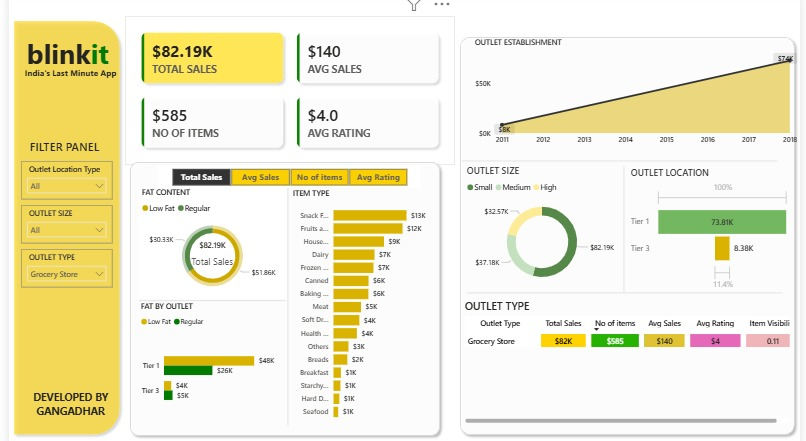

What the dashboard file says about the page in this screenshot:
{"tool":"powerbi","page":{"name":"Page 1","canvas":[1400,800],"ordinal":0},"visuals":[{"type":"shape","box":[0,37.3,205,750],"z":0},{"type":"textbox","box":[26.5,65.5,203.5,81.4],"z":1000},{"type":"textbox","box":[12.1,122.7,193.1,48.3],"z":2000},{"type":"cardVisual","fields":{"Data":["BlinkIT Grocery Data.Total Sales","BlinkIT Grocery Data.Avg Sales","BlinkIT Grocery Data.No of items","BlinkIT Grocery Data.Avg Rating"]},"box":[205.3,37.2,584.1,263.7],"z":3000},{"type":"shape","box":[206,286,566,502],"z":4000},{"type":"donutChart","title":"FAT CONTENT","fields":{"Y":["BlinkIT Grocery Data.Total Sales"],"Category":["BlinkIT Grocery Data.Item Fat Content"]},"box":[230,340,260,198],"z":5000},{"type":"slicer","fields":{"Values":["Metrics.Metrics"]},"box":[263.7,300.9,465.5,40.7],"z":6000},{"type":"card","fields":{"Values":["BlinkIT Grocery Data.Total Sales"]},"box":[316,428,86,56],"z":7000},{"type":"clusteredBarChart","title":"FAT BY OUTLET","fields":{"Y":["BlinkIT Grocery Data.Total Sales"],"Category":["BlinkIT Grocery Data.Outlet Location Type"],"Series":["BlinkIT Grocery Data.Item Fat Content"]},"box":[228.3,541.7,260,221.7],"z":8000},{"type":"shape","box":[230,528.3,260,23.3],"z":9000},{"type":"shape","box":[490,341.7,6.7,420],"z":10000},{"type":"barChart","title":"ITEM TYPE","fields":{"Y":["BlinkIT Grocery Data.Total Sales"],"Category":["BlinkIT Grocery Data.Item Type"]},"box":[496.7,341.7,255,420],"z":11000},{"type":"shape","box":[790,66,610,722],"z":12000},{"type":"lineChart","title":"OUTLET ESTABLISHMENT","fields":{"Y":["BlinkIT Grocery Data.Total Sales"],"Category":["BlinkIT Grocery Data.Outlet Establishment Year"]},"box":[806,86,580,200],"z":13000},{"type":"shape","box":[802,286,558,14],"z":14000},{"type":"donutChart","title":"OUTLET SIZE","fields":{"Y":["BlinkIT Grocery Data.Total Sales"],"Category":["BlinkIT Grocery Data.Outlet Size"]},"box":[806,300,276,226],"z":15000},{"type":"shape","box":[1082,302,14,224],"z":16000},{"type":"funnel","title":"OUTLET LOCATION","fields":{"Y":["Sum(BlinkIT Grocery Data.Sales)"],"Category":["BlinkIT Grocery Data.Outlet Location Type"]},"box":[1096,302,290,224],"z":17000},{"type":"shape","box":[810,484,558,88],"z":18000},{"type":"pivotTable","title":"OUTLET TYPE","fields":{"Values":["BlinkIT Grocery Data.Total Sales","BlinkIT Grocery Data.No of items","BlinkIT Grocery Data.Avg Sales","BlinkIT Grocery Data.Avg Rating","Avg(BlinkIT Grocery Data.Item Visibility)"],"Rows":["BlinkIT Grocery Data.Outlet Type"]},"box":[802.5,537.5,585,225],"z":19000},{"type":"slicer","fields":{"Values":["BlinkIT Grocery Data.Outlet Location Type"]},"box":[21.1,293.3,162.2,67.8],"z":20000},{"type":"slicer","fields":{"Values":["BlinkIT Grocery Data.Outlet Size"]},"box":[21.1,371.1,162.2,67.8],"z":21000},{"type":"slicer","fields":{"Values":["BlinkIT Grocery Data.Outlet Type"]},"box":[21.1,450,162.2,67.8],"z":22000},{"type":"textbox","title":"FILTER PANEL","box":[26.7,255,143.3,38.3],"z":22001},{"type":"image","box":[58.3,536.7,70,46.7],"z":22002},{"type":"image","box":[68.3,613.3,50,50],"z":22003},{"type":"textbox","box":[11.7,693.3,193.3,80],"z":22004}]}

Visuals, with their boxes in screenshot pixels (x1, y1, x2, y2):
shape: region(29, 27, 141, 434)
textbox: region(44, 42, 154, 86)
textbox: region(36, 73, 141, 99)
cardVisual - BlinkIT Grocery Data.Total Sales x BlinkIT Grocery Data.Avg Sales: region(141, 27, 458, 170)
shape: region(141, 162, 449, 434)
"FAT CONTENT" donutChart: region(154, 191, 296, 299)
slicer - Metrics.Metrics: region(173, 170, 426, 192)
card - BlinkIT Grocery Data.Total Sales: region(201, 239, 248, 269)
"FAT BY OUTLET" clusteredBarChart: region(153, 301, 295, 421)
shape: region(154, 293, 296, 306)
shape: region(296, 192, 299, 420)
"ITEM TYPE" barChart: region(299, 192, 438, 420)
shape: region(459, 42, 790, 434)
"OUTLET ESTABLISHMENT" lineChart: region(467, 53, 782, 162)
shape: region(465, 162, 768, 169)
"OUTLET SIZE" donutChart: region(467, 169, 617, 292)
shape: region(617, 170, 625, 292)
"OUTLET LOCATION" funnel: region(625, 170, 782, 292)
shape: region(470, 269, 773, 317)
"OUTLET TYPE" pivotTable: region(465, 298, 783, 421)
slicer - BlinkIT Grocery Data.Outlet Location Type: region(41, 166, 129, 203)
slicer - BlinkIT Grocery Data.Outlet Size: region(41, 208, 129, 245)
slicer - BlinkIT Grocery Data.Outlet Type: region(41, 251, 129, 288)
"FILTER PANEL" textbox: region(44, 145, 122, 166)
image: region(61, 298, 99, 323)
image: region(67, 340, 94, 367)
textbox: region(36, 383, 141, 426)
